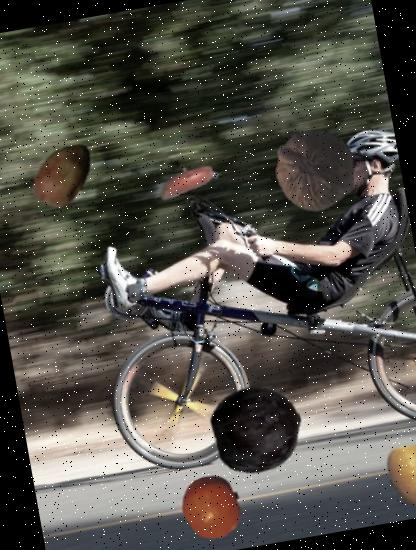Banana: (151, 143, 224, 216)
Clementine: (176, 470, 250, 544)
Kumquats: (374, 436, 416, 512)
Papaya: (22, 132, 108, 218)
Plum: (206, 376, 310, 480)
Walnut: (267, 121, 364, 218)
